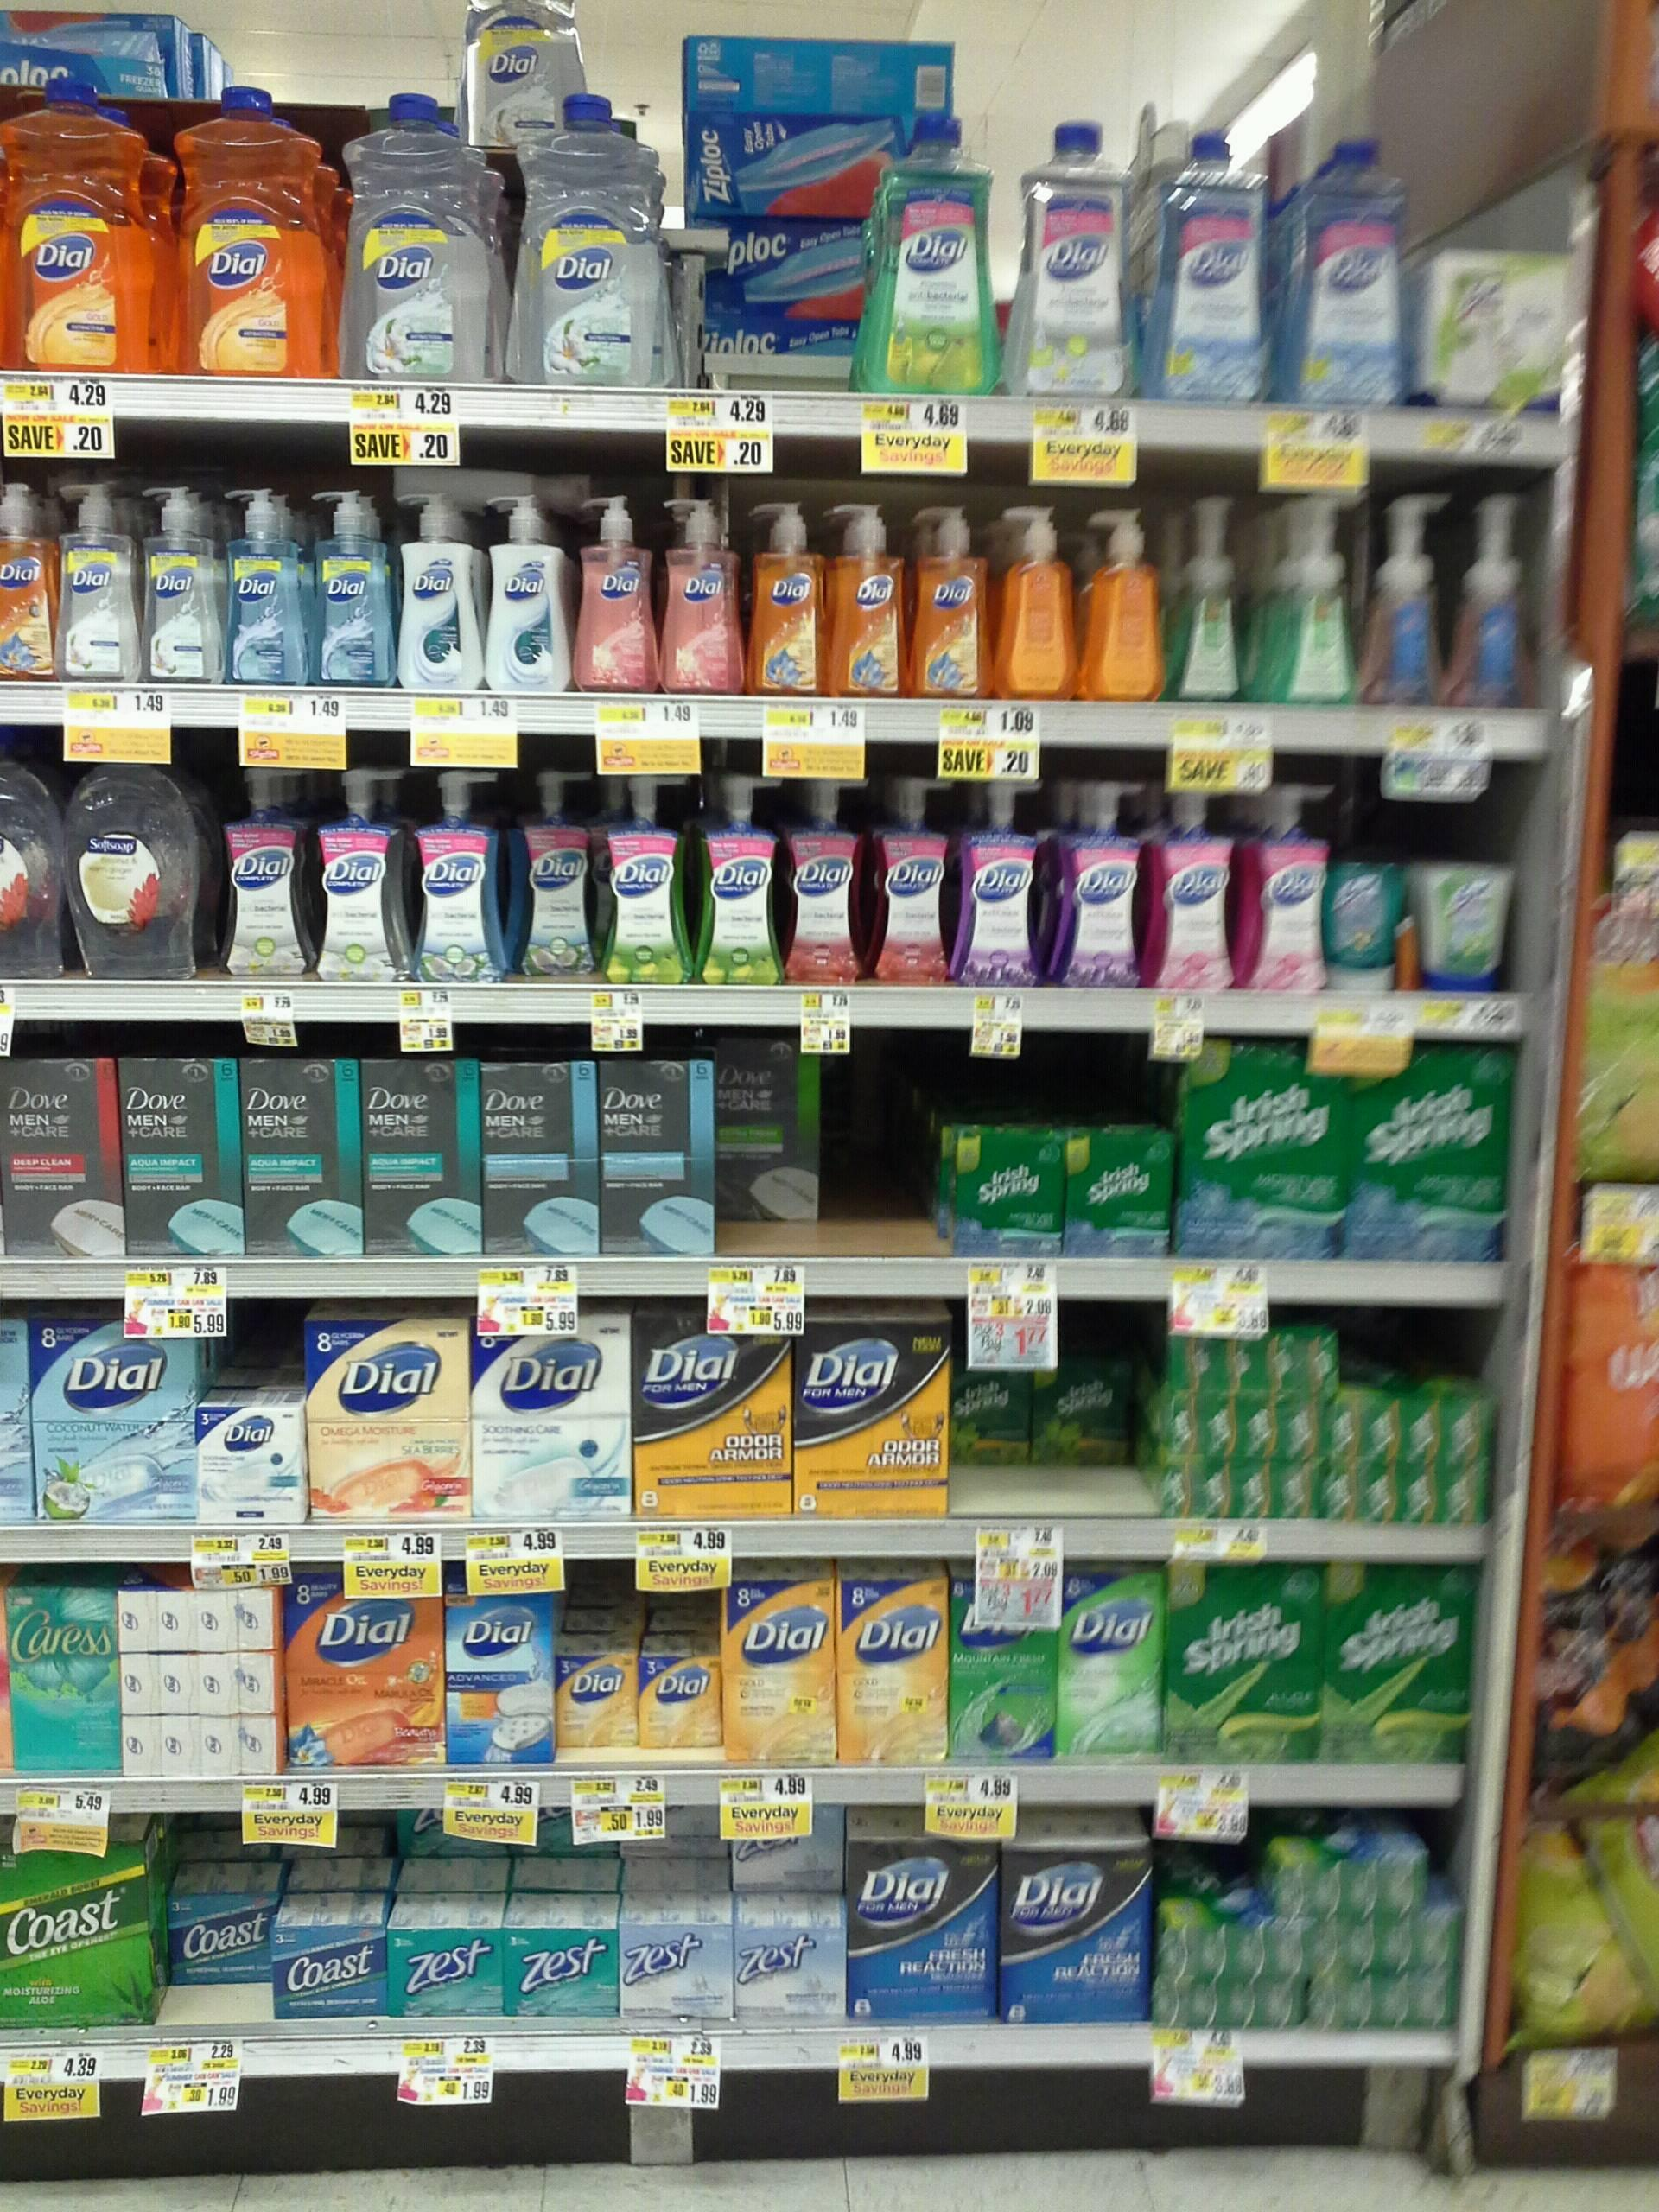empty: (835, 1068, 934, 1252)
